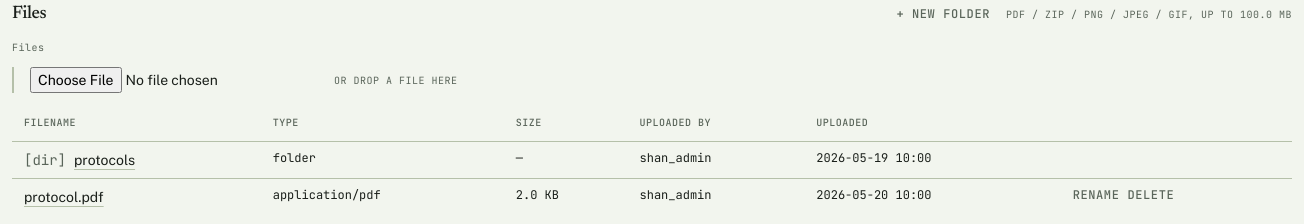
Test case: <Files /> — #174 folders › navigating into a folder refetches the list with ?path=
The image size is (1304, 224).
Click the button "[dir] protocols". click: point(80, 160)
box: [24,150,135,170]
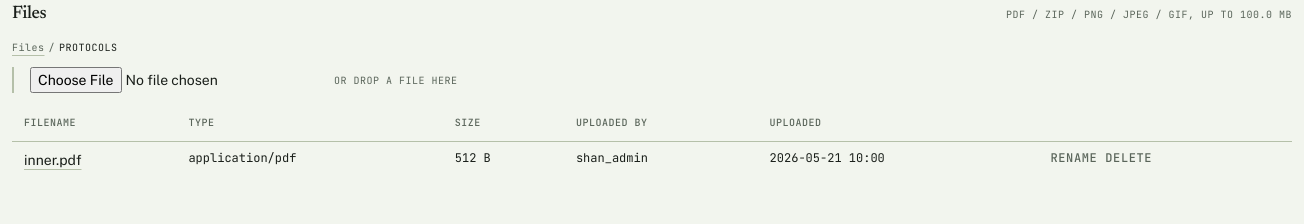
Expected: the button "inner.pdf" is shown, [24,150,82,170]
